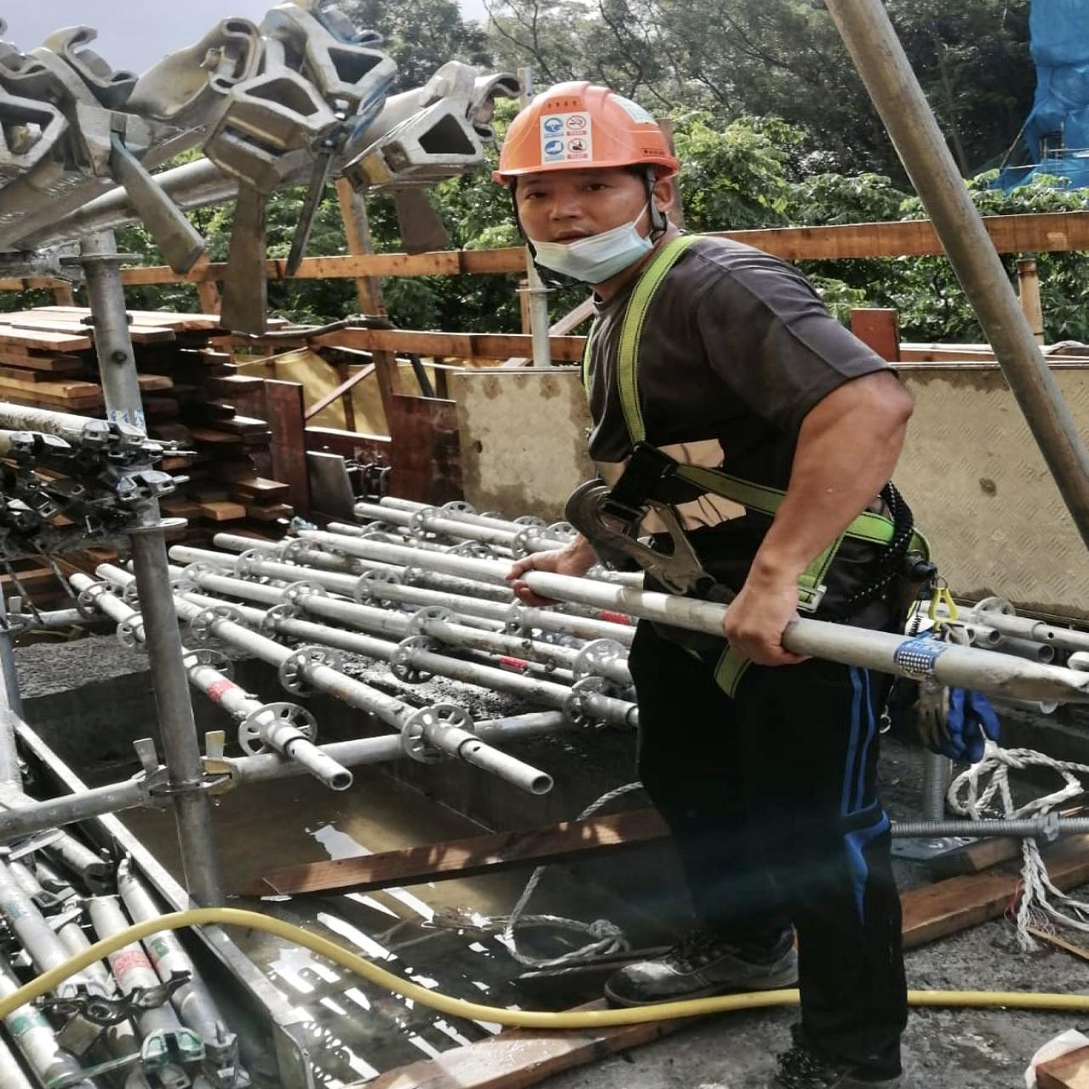NO_Safety_Vest: (582, 239, 915, 637)
Person: (449, 65, 981, 1038)
